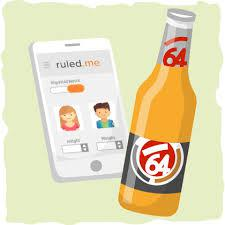beer: (118, 9, 197, 217)
